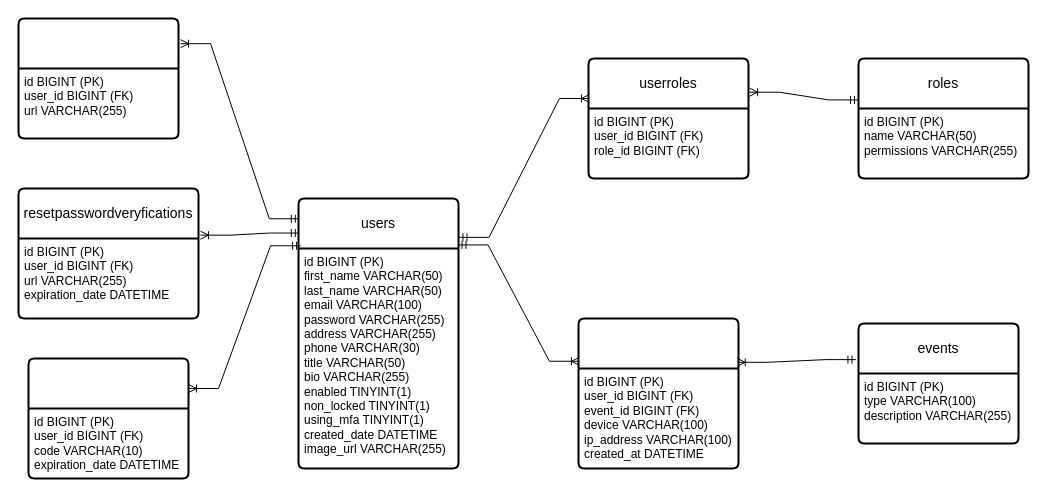
The diagram is 1046 pixels wide and 496 high, and some of its shapes have lost their labels. The shapes that lost their labels are listed below. From the top down, each one's box as (x1, y1, x2, y2) in pixels, then its label:
(17, 17, 179, 139): accountveryfications
(577, 317, 739, 469): userevents
(27, 357, 189, 479): twofactorveryfications
